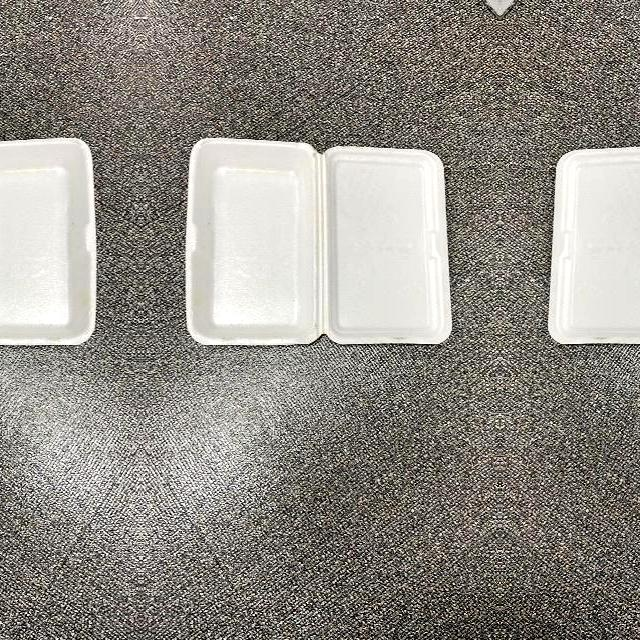Styrofoam: (182, 138, 452, 346), (185, 138, 450, 345), (0, 137, 97, 346), (0, 138, 95, 345), (546, 137, 640, 346), (548, 147, 640, 344)
